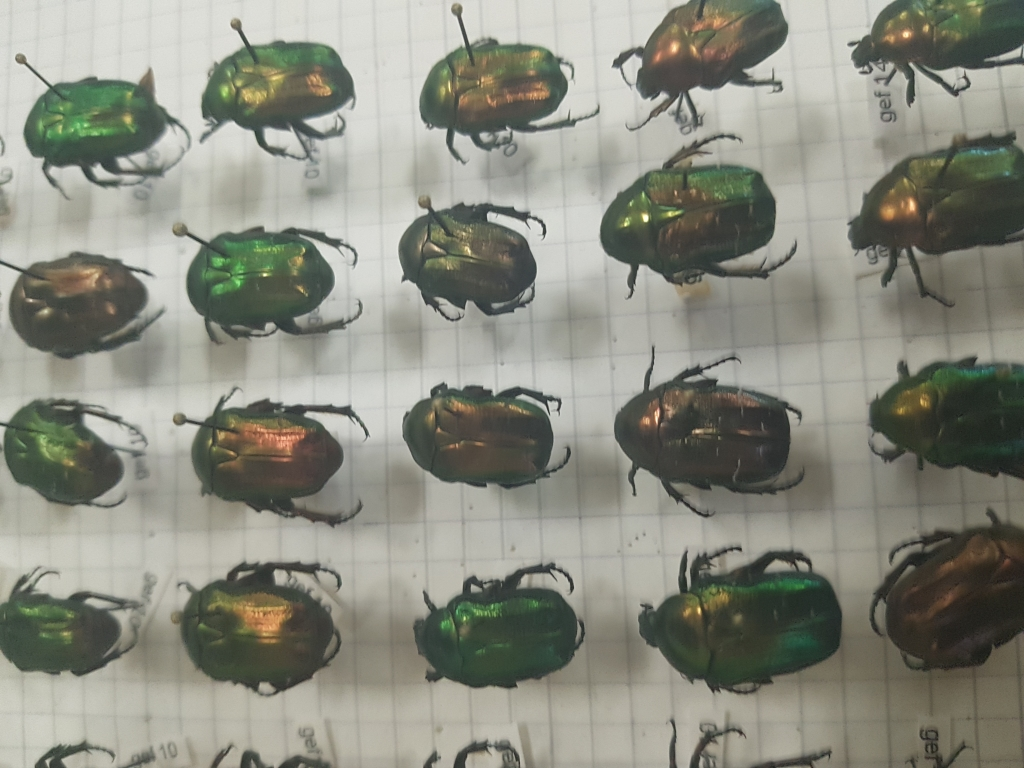Cetonia_aurata: (407, 371, 574, 504), (385, 194, 552, 317)
